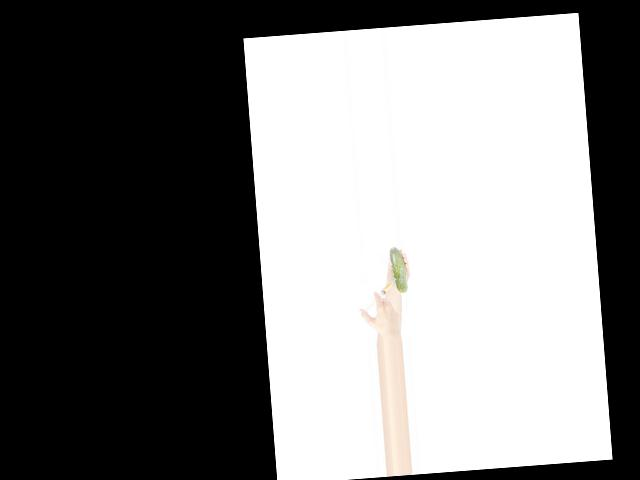cucumber: (389, 245, 407, 293)
